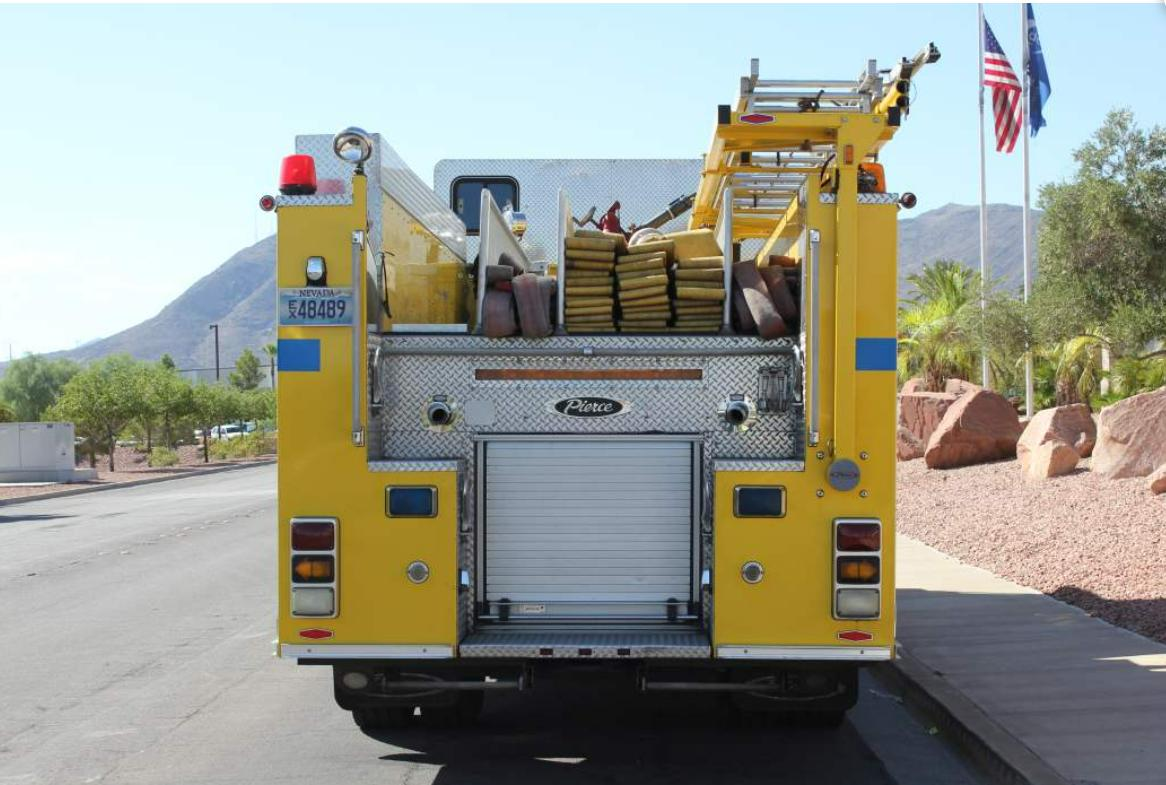firetruck_off: (265, 45, 907, 736)
